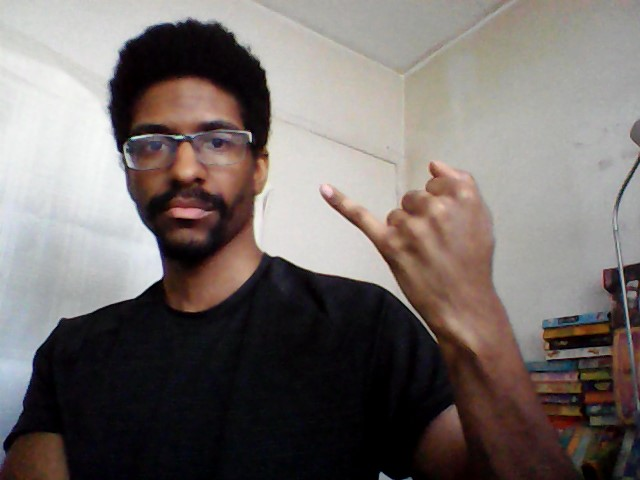j: (314, 156, 499, 292)
